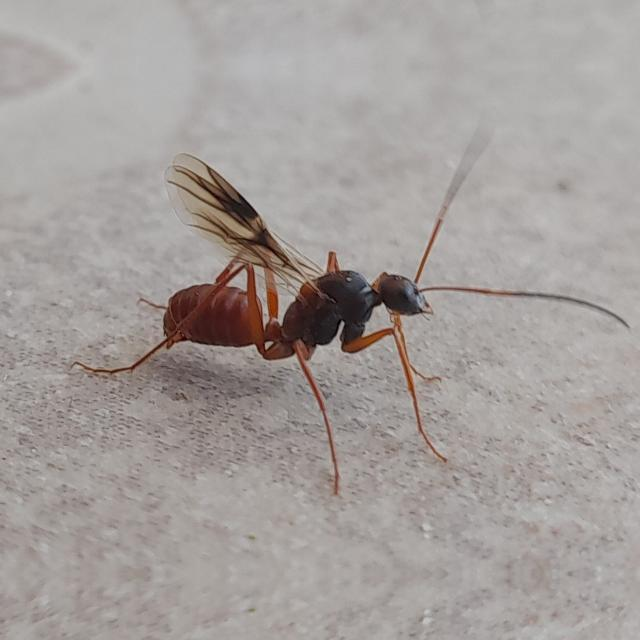Cataglyphis: (100, 142, 514, 424)
